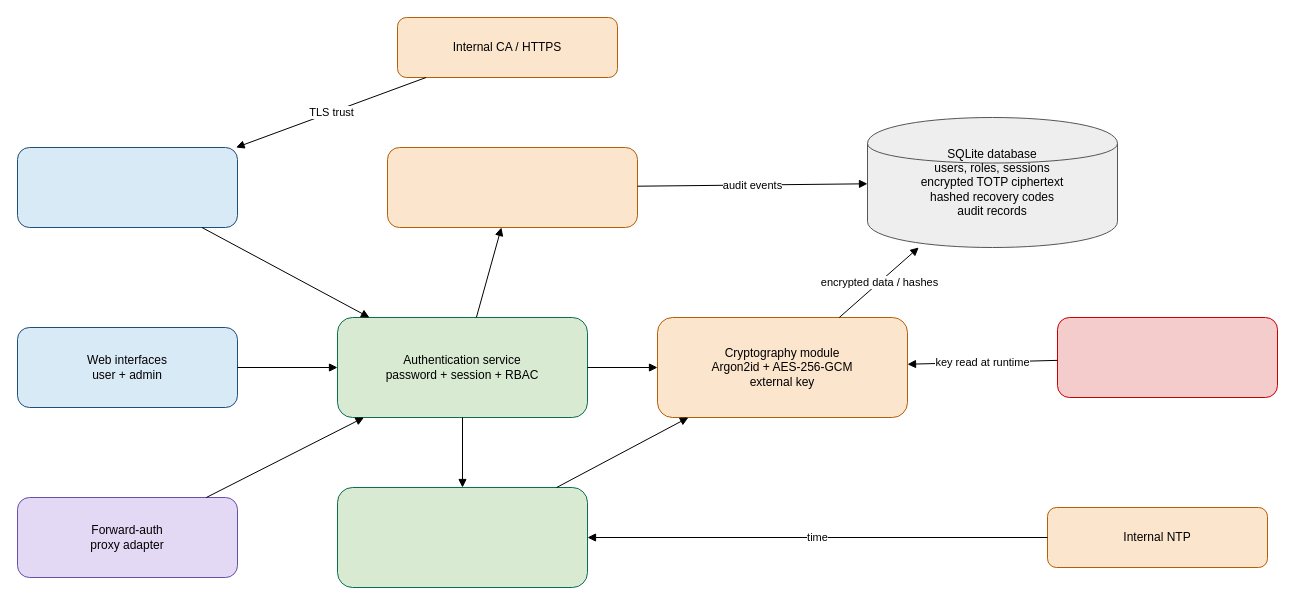
Image size: 1295x605. Some labels were removed from this diagram. Here are the shapes that lost their labels. From the top down, the centre of each, then its label:
At point (127, 187): "API layer REST + OpenAPI".
At point (512, 187): "Audit service append-only events".
At point (1167, 357): "External key store not in database/repository".
At point (462, 537): "TOTP module RFC 6238 + replay check rate limiting".
